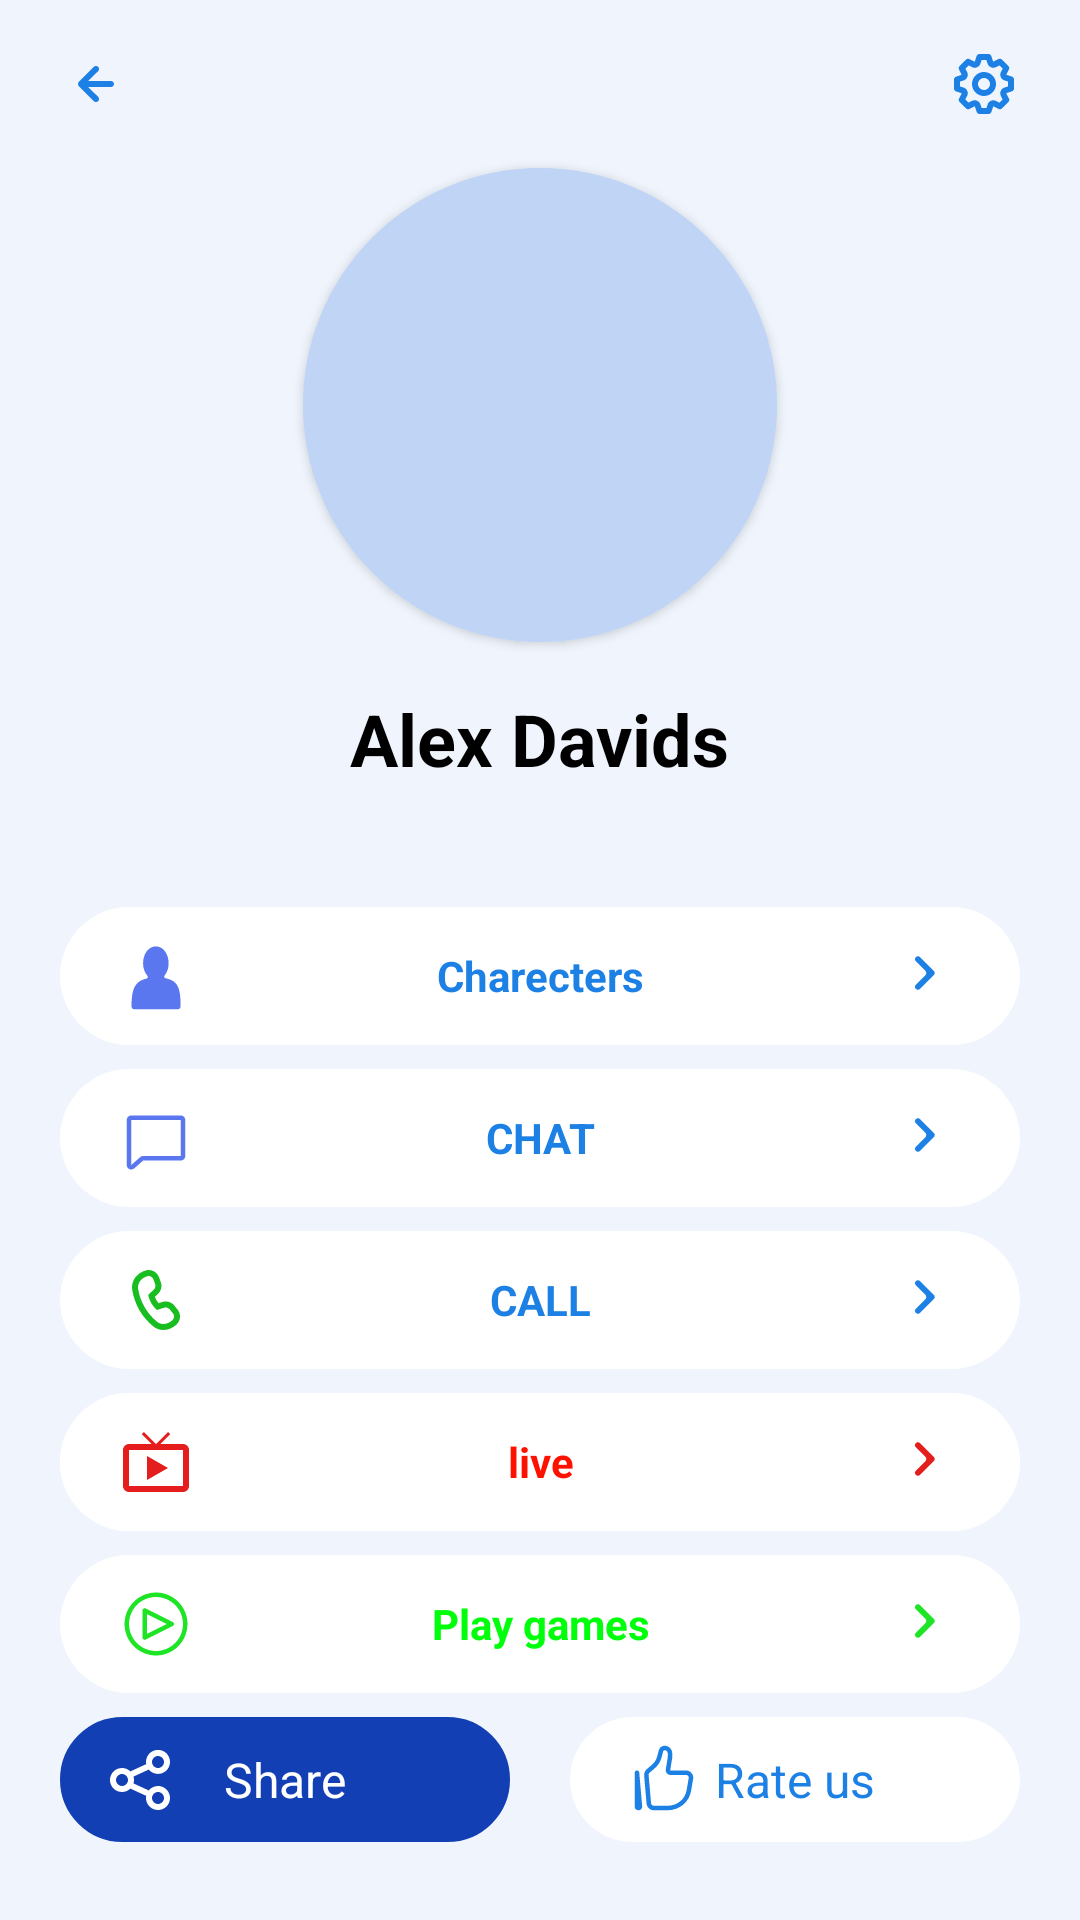

Named icons in this screenshot (1080px x 1920px) and their centers, [x,y]:
arriow left: [96,84]
like: [664,1778]
settings: [984,84]
